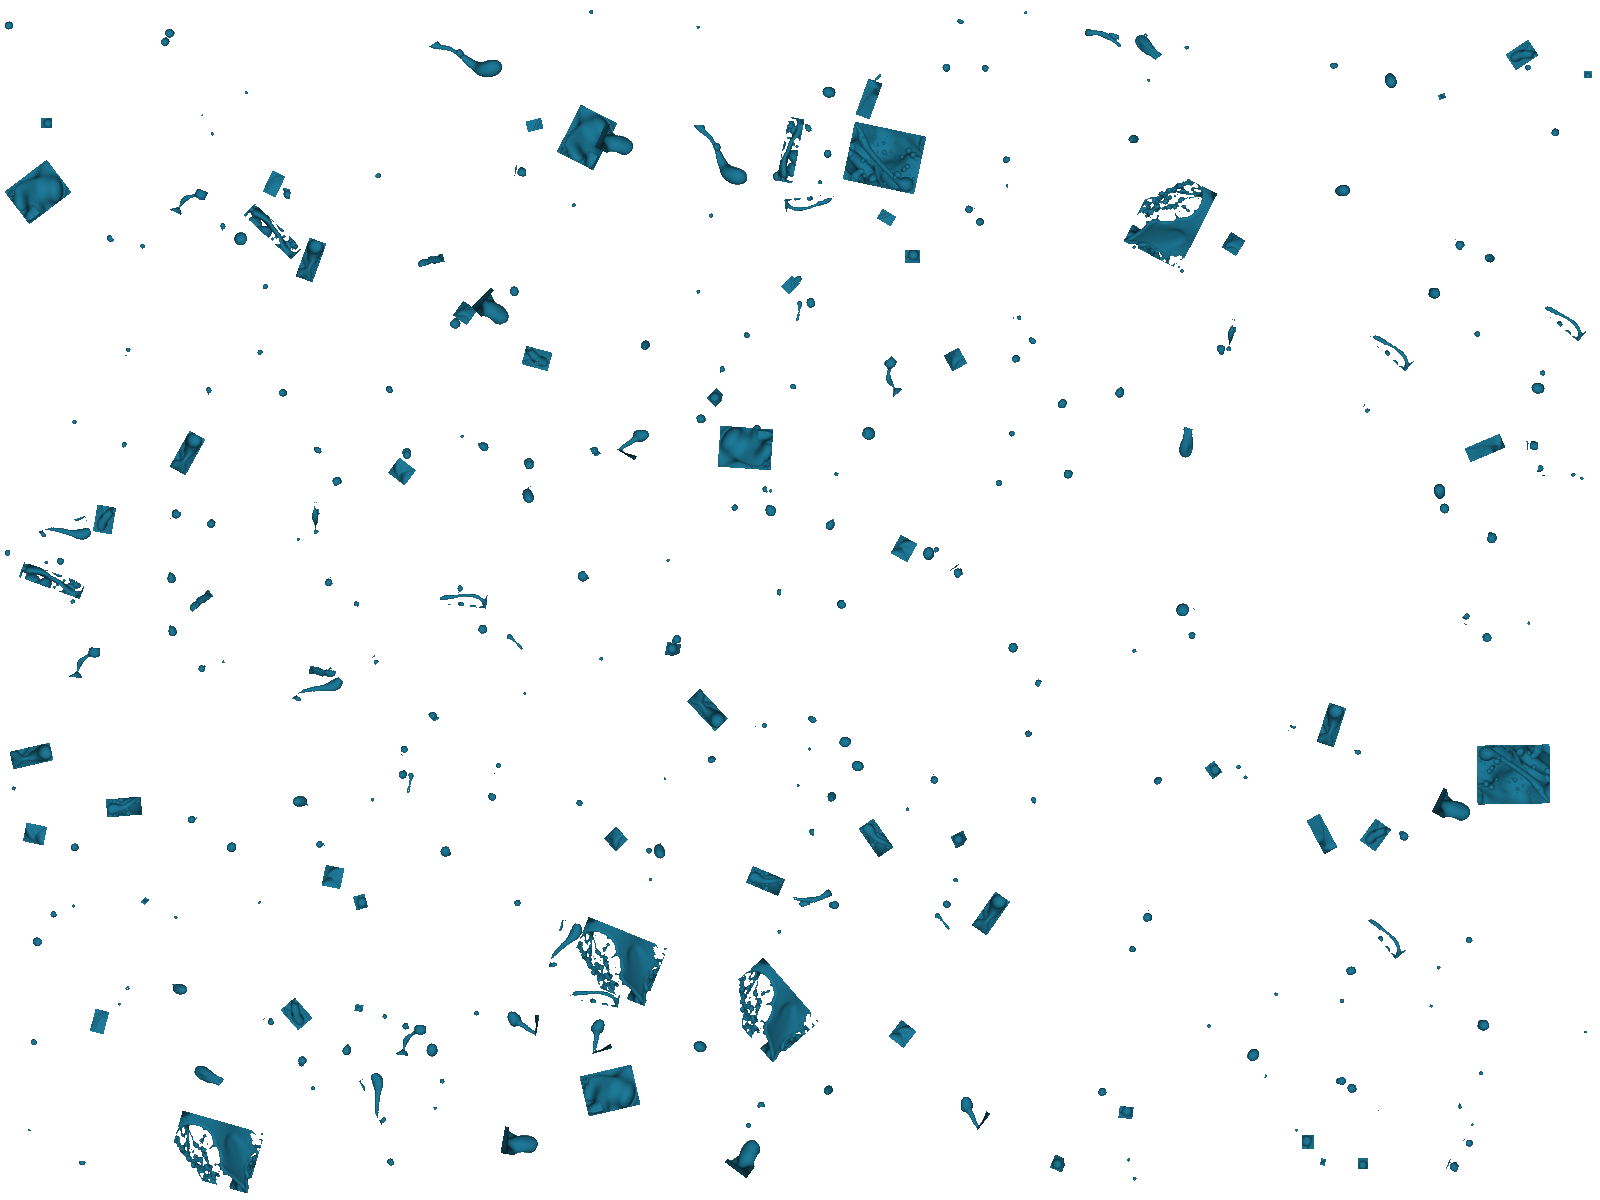Attached ligament: (842, 121, 927, 195), (1477, 744, 1551, 805), (243, 203, 304, 260), (18, 561, 86, 600), (776, 116, 805, 184), (947, 1092, 991, 1134), (687, 688, 729, 732), (612, 417, 653, 461), (971, 891, 1010, 937), (169, 430, 207, 476), (295, 237, 328, 284), (577, 1015, 614, 1056), (858, 818, 894, 858), (1317, 702, 1347, 747), (745, 865, 786, 897), (501, 1008, 540, 1042), (9, 742, 54, 770), (1359, 818, 1392, 852), (280, 997, 312, 1031), (1506, 39, 1540, 71), (105, 795, 144, 818), (522, 345, 553, 372), (92, 504, 117, 534), (186, 589, 214, 613), (416, 253, 445, 268), (307, 666, 336, 679)
Detached ligament: (426, 18, 508, 103), (690, 124, 748, 190), (283, 666, 346, 724), (358, 1070, 408, 1136), (26, 516, 93, 558), (546, 919, 585, 984), (1367, 326, 1415, 372), (1363, 911, 1407, 961), (1540, 297, 1587, 342), (871, 355, 913, 400), (168, 180, 209, 222), (185, 1058, 226, 1094), (1126, 26, 1163, 66), (568, 984, 621, 1008), (789, 884, 833, 911), (68, 644, 101, 681), (1173, 426, 1202, 466), (394, 1022, 427, 1058), (784, 193, 837, 214), (436, 589, 488, 609), (1083, 28, 1128, 49), (306, 500, 324, 534), (930, 910, 955, 932), (863, 71, 883, 95), (503, 632, 527, 650), (402, 771, 420, 794), (1225, 319, 1237, 350), (791, 299, 808, 321)
bag: (716, 957, 820, 1063), (1123, 165, 1218, 270), (564, 916, 668, 1007), (165, 1111, 265, 1194), (4, 159, 72, 224), (556, 105, 619, 171), (580, 1064, 641, 1117), (717, 425, 774, 471), (471, 287, 518, 334), (724, 1131, 770, 1179), (1431, 787, 1478, 829), (593, 122, 641, 164), (500, 1126, 543, 1160)
drop: (842, 753, 867, 778), (830, 731, 854, 754), (1170, 597, 1194, 620), (823, 892, 845, 915), (1000, 634, 1022, 657), (515, 454, 538, 475), (422, 1040, 443, 1063), (1330, 1069, 1352, 1092), (1123, 129, 1144, 150), (290, 1051, 312, 1071), (1475, 1013, 1494, 1037), (1332, 182, 1356, 200), (1477, 626, 1498, 647), (706, 387, 726, 408), (762, 503, 782, 524), (1209, 339, 1230, 361), (1426, 282, 1445, 305), (220, 834, 241, 855), (1432, 783, 1453, 803), (737, 326, 757, 347), (1243, 1044, 1264, 1064), (918, 545, 939, 565), (445, 316, 465, 337), (518, 485, 538, 505), (231, 227, 249, 248), (859, 424, 881, 442), (1431, 479, 1449, 502), (1204, 760, 1223, 780), (950, 829, 969, 850), (690, 1037, 711, 1056), (571, 566, 590, 586), (650, 841, 669, 861), (1049, 1155, 1068, 1174), (529, 347, 548, 366), (1480, 250, 1499, 268), (801, 294, 820, 313), (1342, 961, 1361, 979), (161, 24, 180, 43), (769, 166, 787, 185), (1529, 379, 1550, 397), (820, 83, 840, 101), (29, 932, 47, 950), (351, 892, 369, 911), (765, 1024, 784, 1041), (823, 788, 842, 805), (66, 836, 83, 855), (753, 718, 772, 736), (435, 841, 452, 860), (163, 568, 180, 587), (338, 1041, 357, 1059), (164, 621, 181, 640), (475, 620, 491, 640), (1383, 71, 1398, 92), (393, 764, 411, 782), (397, 447, 414, 465), (1053, 395, 1071, 412), (639, 841, 656, 858), (156, 32, 173, 49), (664, 642, 682, 658), (637, 337, 654, 354), (820, 1082, 837, 1099), (505, 284, 523, 300), (168, 507, 184, 524), (831, 597, 849, 614), (1450, 236, 1466, 253), (740, 1118, 756, 1136), (1111, 384, 1129, 401), (821, 517, 839, 533), (949, 563, 966, 580), (398, 445, 417, 460), (1432, 500, 1451, 516), (1485, 531, 1500, 550), (1060, 466, 1078, 482), (202, 514, 218, 531), (571, 798, 587, 814), (396, 741, 412, 758), (328, 471, 344, 488), (1007, 350, 1023, 367), (171, 981, 188, 997), (100, 233, 116, 250), (939, 57, 954, 74), (1471, 326, 1487, 344), (694, 411, 709, 429), (1346, 1080, 1361, 1098), (476, 437, 491, 455), (666, 632, 685, 645), (1117, 1105, 1134, 1121), (25, 1037, 42, 1053), (1461, 1134, 1477, 1151), (1547, 125, 1562, 141), (702, 751, 718, 766), (926, 773, 941, 789), (960, 200, 976, 216), (595, 650, 610, 667), (292, 794, 309, 809), (1445, 1158, 1461, 1174), (1398, 826, 1411, 845), (971, 214, 986, 229), (1120, 1150, 1135, 1165), (166, 911, 181, 926), (194, 661, 209, 676), (1459, 611, 1474, 626), (1522, 61, 1536, 77), (522, 458, 538, 471), (1174, 263, 1191, 277), (1027, 676, 1043, 689), (1301, 1134, 1315, 1150), (905, 250, 920, 263), (485, 792, 500, 805), (821, 144, 835, 159), (750, 422, 763, 437), (53, 555, 68, 568), (1007, 427, 1020, 442), (493, 760, 506, 775), (370, 168, 386, 182), (762, 482, 777, 495), (183, 812, 198, 826), (320, 576, 335, 590), (1203, 1018, 1217, 1034), (262, 1013, 276, 1029), (427, 708, 441, 724), (1463, 937, 1477, 950), (1140, 909, 1154, 923), (275, 386, 289, 400), (66, 899, 79, 913), (252, 344, 266, 358), (349, 599, 363, 613), (66, 592, 79, 606), (312, 837, 326, 851), (202, 384, 215, 398), (1351, 744, 1364, 758), (452, 582, 466, 596), (215, 221, 229, 234), (367, 654, 380, 668), (1358, 403, 1372, 417), (239, 86, 253, 100), (1526, 439, 1540, 453), (433, 1075, 449, 1088), (1020, 729, 1034, 741), (1094, 1087, 1107, 1099), (729, 502, 742, 516), (134, 239, 147, 252), (1327, 58, 1340, 71), (800, 122, 814, 135), (940, 896, 952, 910), (1027, 794, 1039, 808), (714, 363, 728, 376), (1128, 1171, 1141, 1184), (590, 444, 602, 458), (753, 1095, 766, 1109), (567, 200, 582, 212), (1125, 943, 1138, 955), (511, 897, 524, 910), (792, 274, 805, 286), (1357, 1157, 1369, 1170), (1139, 29, 1151, 42), (1289, 1122, 1301, 1134), (8, 783, 20, 795), (791, 780, 804, 793), (258, 279, 271, 291), (1010, 313, 1023, 325), (514, 165, 527, 178), (1186, 630, 1199, 642), (1144, 205, 1155, 219), (471, 1005, 483, 1018), (693, 18, 704, 32), (1241, 770, 1252, 784), (1, 20, 14, 32), (386, 1157, 397, 1170), (384, 384, 396, 397), (40, 117, 53, 129), (121, 983, 134, 995), (831, 468, 843, 480), (1129, 645, 1141, 657), (519, 689, 530, 702), (801, 742, 813, 755), (290, 534, 302, 546), (661, 555, 674, 566), (1270, 988, 1283, 1000), (118, 437, 129, 451), (1232, 761, 1243, 773), (47, 909, 58, 920), (1150, 775, 1162, 787), (706, 209, 717, 221), (367, 794, 378, 805), (786, 379, 797, 391), (399, 1020, 409, 1032), (1002, 155, 1014, 165), (1536, 367, 1546, 379), (1026, 337, 1038, 347), (954, 16, 966, 26), (379, 1012, 391, 1022), (805, 828, 815, 839), (1567, 470, 1579, 480), (659, 776, 670, 787), (21, 1124, 31, 1136), (208, 129, 218, 140), (1522, 619, 1532, 630), (1335, 996, 1347, 1006), (311, 446, 323, 456), (814, 176, 825, 187), (122, 347, 134, 357), (1, 550, 13, 560), (1537, 464, 1546, 476), (1477, 1069, 1487, 1079), (307, 1084, 317, 1094), (113, 1002, 123, 1012), (694, 287, 704, 297), (775, 926, 785, 937), (1427, 1003, 1437, 1013), (1577, 473, 1587, 483), (1372, 1104, 1382, 1114), (252, 897, 262, 908), (1182, 42, 1192, 52), (140, 896, 150, 906), (354, 1003, 364, 1013), (457, 431, 467, 441), (1129, 242, 1139, 252), (612, 1088, 624, 1097), (282, 188, 291, 199), (760, 484, 769, 495), (981, 64, 991, 73), (931, 545, 940, 555), (648, 875, 656, 885), (806, 716, 816, 725), (1141, 77, 1151, 86), (1000, 183, 1010, 192), (1437, 92, 1448, 101), (1454, 1100, 1463, 1111), (993, 476, 1002, 487), (586, 8, 595, 16), (198, 108, 207, 117), (1584, 71, 1592, 79), (1022, 10, 1031, 19), (217, 658, 226, 667), (430, 1105, 440, 1113), (69, 418, 79, 426), (775, 587, 782, 597), (77, 1160, 87, 1167), (952, 876, 960, 885), (905, 805, 912, 814), (1435, 963, 1443, 972), (1189, 608, 1198, 615), (1582, 1030, 1590, 1039), (534, 358, 540, 368), (42, 556, 49, 563), (1470, 1122, 1478, 1129), (1288, 725, 1296, 731), (1320, 1158, 1327, 1166), (1264, 1074, 1271, 1080)
lobe: (1306, 813, 1338, 855), (1464, 434, 1506, 463), (855, 78, 883, 120), (888, 1018, 917, 1049), (387, 458, 417, 487), (889, 534, 918, 563), (603, 826, 629, 852), (452, 300, 477, 326), (1221, 231, 1246, 257), (262, 170, 286, 198), (321, 863, 345, 890), (21, 822, 48, 846), (944, 347, 968, 372), (89, 1008, 110, 1035), (780, 275, 801, 295), (876, 208, 897, 227), (525, 117, 544, 134)
